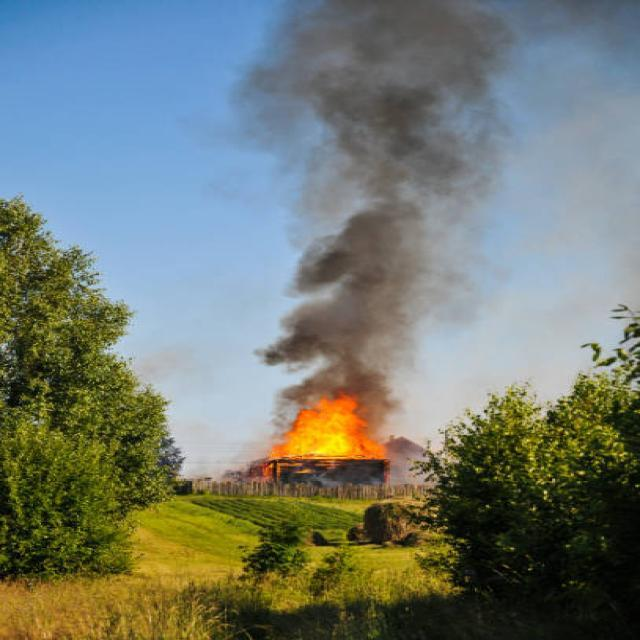Fire: (278, 386, 388, 470)
Smoke: (274, 6, 483, 417)
